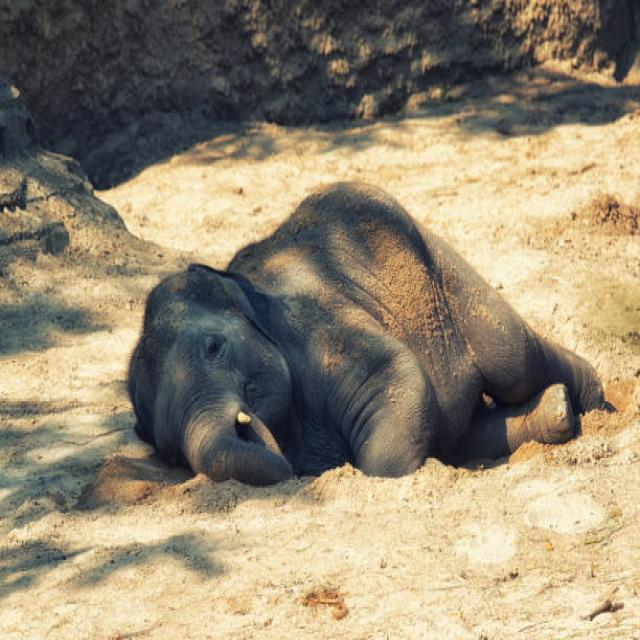Elephant: (124, 175, 618, 492)
